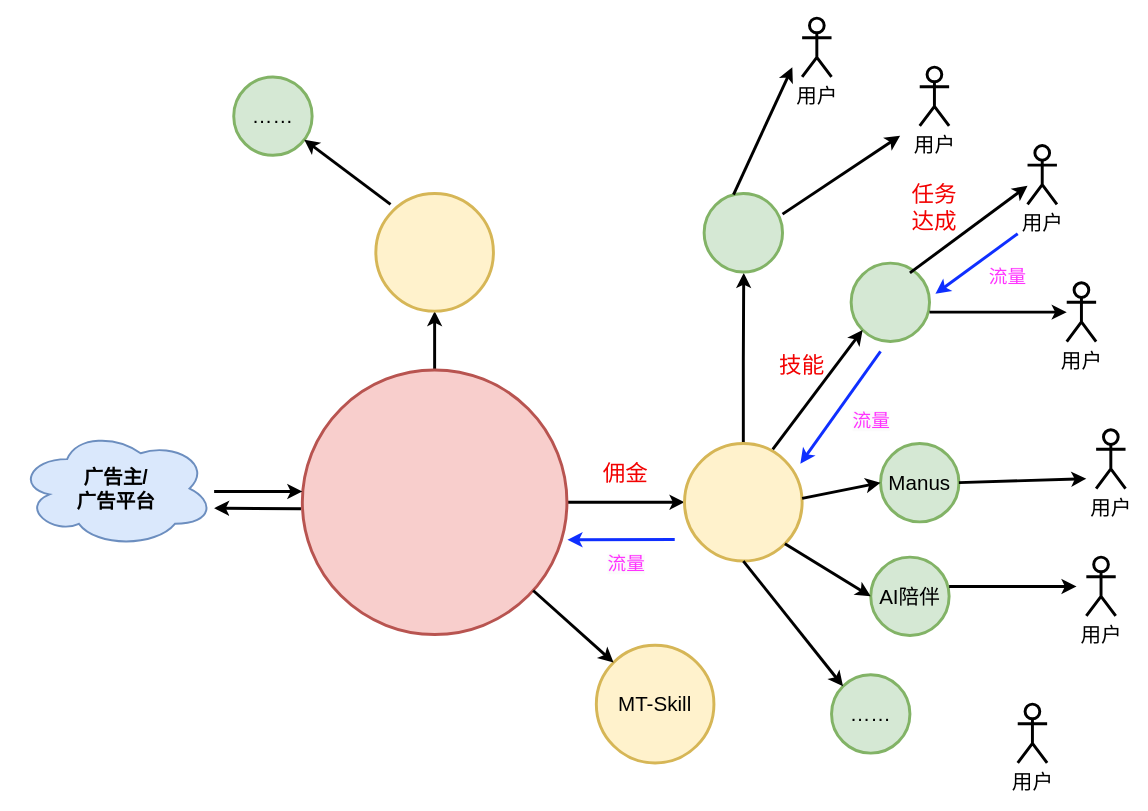
The diagram is 1148 pixels wide and 811 high, and some of its shapes have lost their labels. The centre of each missing label's shape, as x and y in pixels:
AD-Skill: point 434,502
Codex: point 890,302
Openclaw: point 743,232
PlayWrigtht-skill: point 434,252
titok-skill: point 743,501
